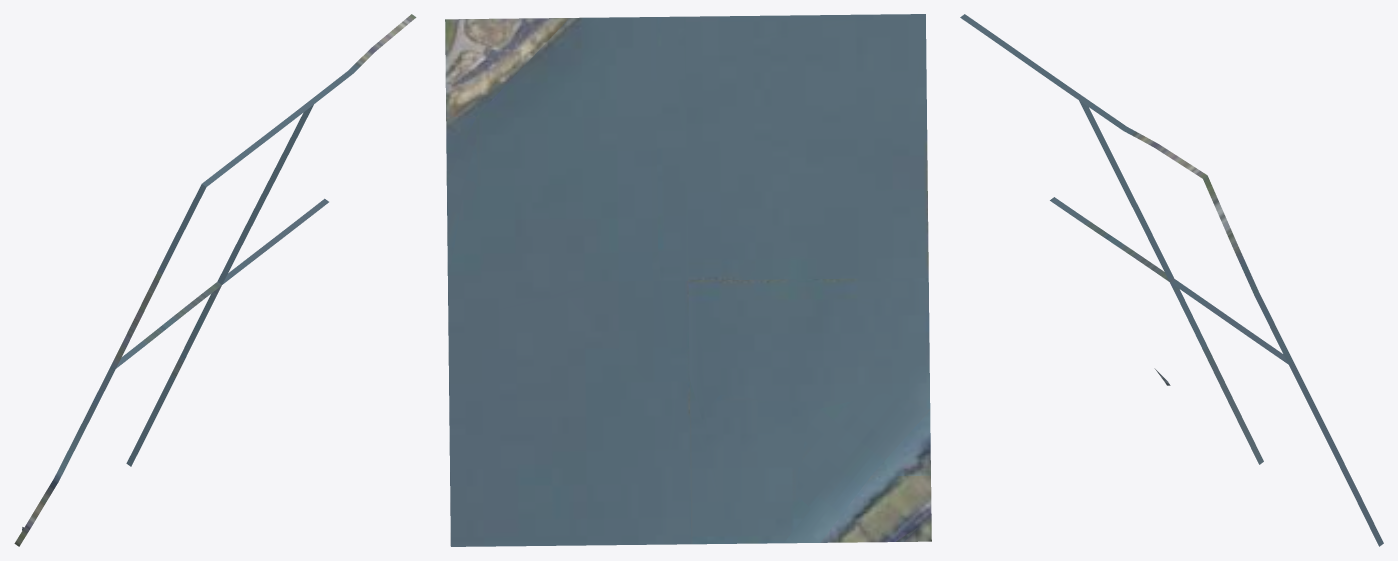
3 renders of one model, left to right at view 1: azimuth 30°, elevation 25°; view 2: azimuth 150°, elevation 25°; view 3: azimuth 270°, elevation 25°, orthographic. The views are drawn at different scales.
Size of the model in its own units: 305 by 279 by 257.
Materials: 1 (1 with a texture image).
